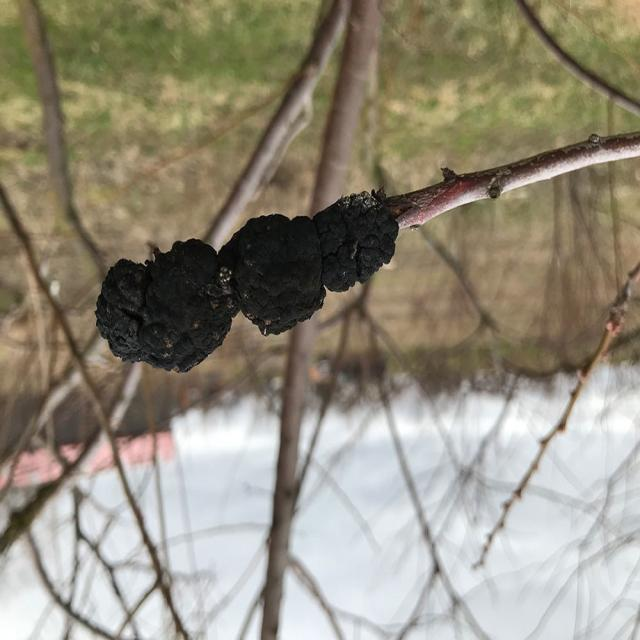Black_knot: (93, 185, 400, 374), (94, 235, 236, 374), (220, 211, 326, 337), (312, 188, 399, 294)
